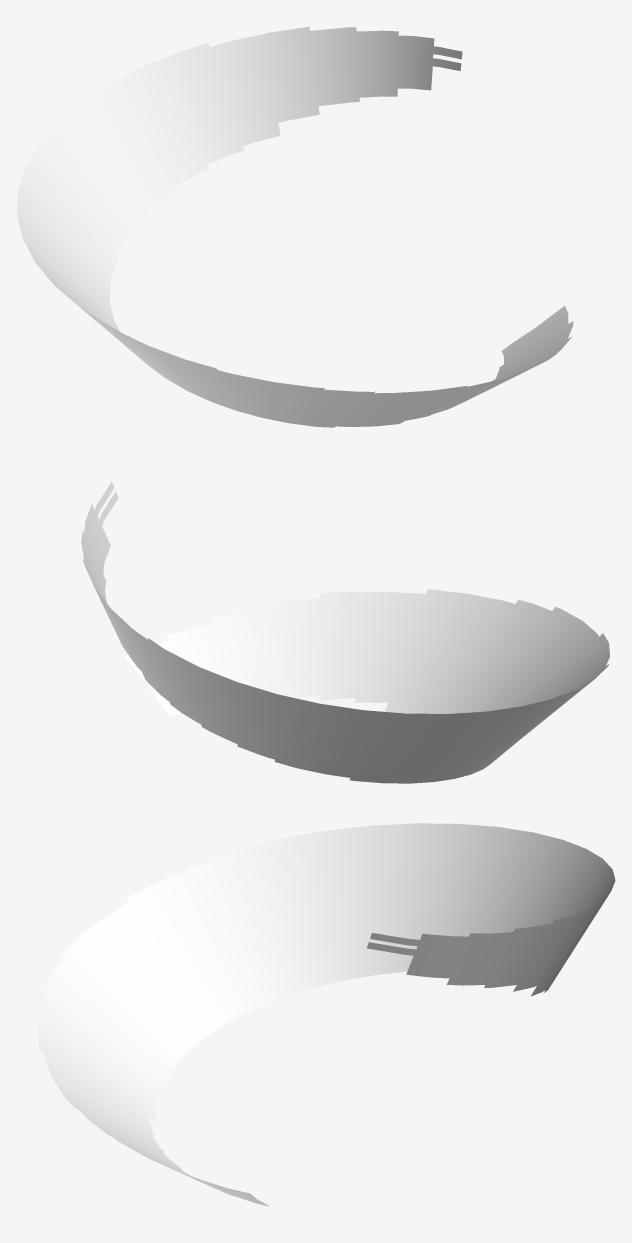
The model's file is mesh_lc_tiaodai04.fbx.
3 renders of one model, top to bottom at view 1: azimuth 30°, elevation 25°; view 2: azimuth 150°, elevation 25°; view 3: azimuth 270°, elevation 25°, orthographic. The views are drawn at different scales.
Parts seen in each view (by area): view 1: mesh_lc_tiaodai04; view 2: mesh_lc_tiaodai04; view 3: mesh_lc_tiaodai04.
Part boxes in pixels (x1=…): mesh_lc_tiaodai04: x1=17, y1=26, x2=573, y2=427; mesh_lc_tiaodai04: x1=81, y1=481, x2=609, y2=783; mesh_lc_tiaodai04: x1=37, y1=823, x2=615, y2=1206.
Size of the model in its own units: 158 by 89.05 by 144.
